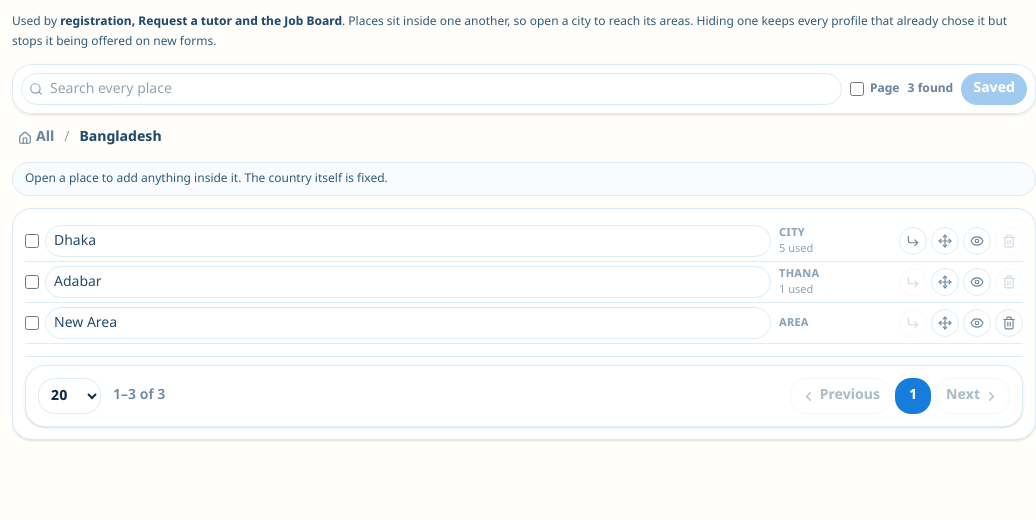
Test: location catalog manager › counts only the deletable rows in a bulk delete
Click the checkbox named "Select Dhaka": (32,241) x1=25 y1=234 x2=39 y2=248
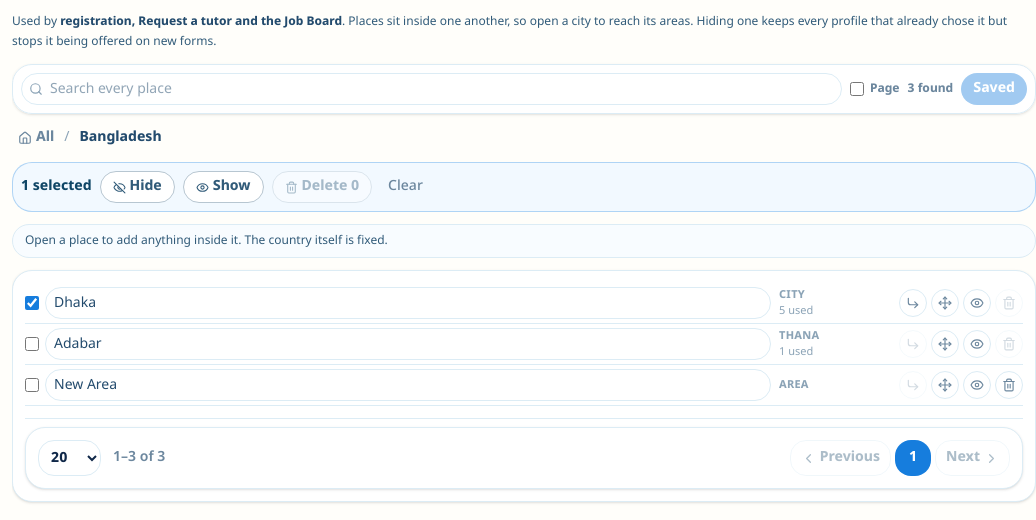
Click the checkbox named "Select New Area": (32,385) x1=25 y1=378 x2=39 y2=392
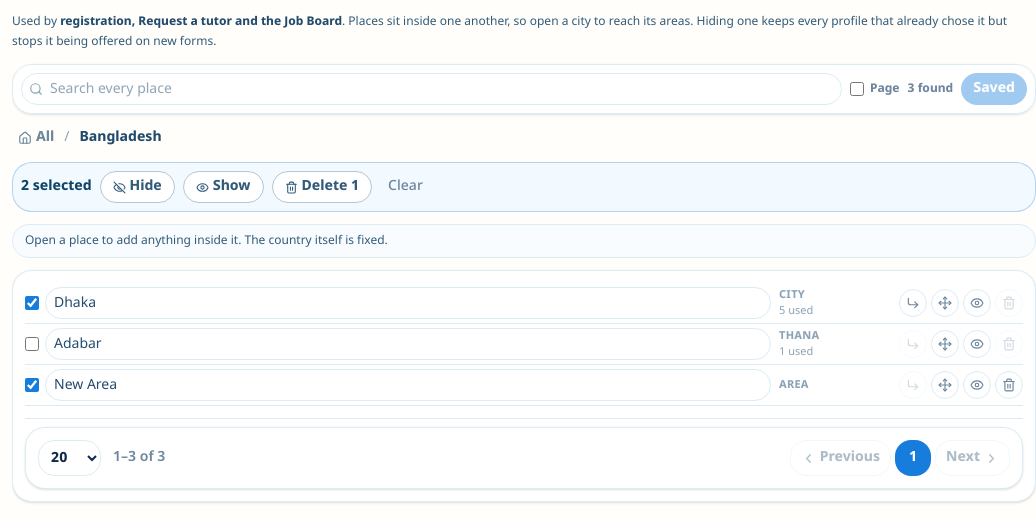
Expected: the text "2 selected" is shown, x1=21 y1=177 x2=92 y2=197
Expected: the button "Delete 1" is enabled, x1=272 y1=171 x2=372 y2=203
